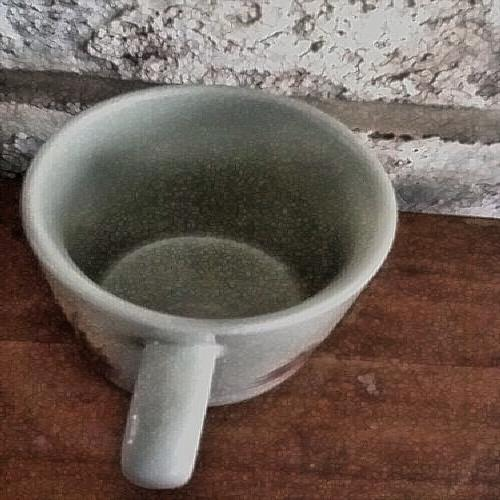mug: (22, 90, 403, 470)
